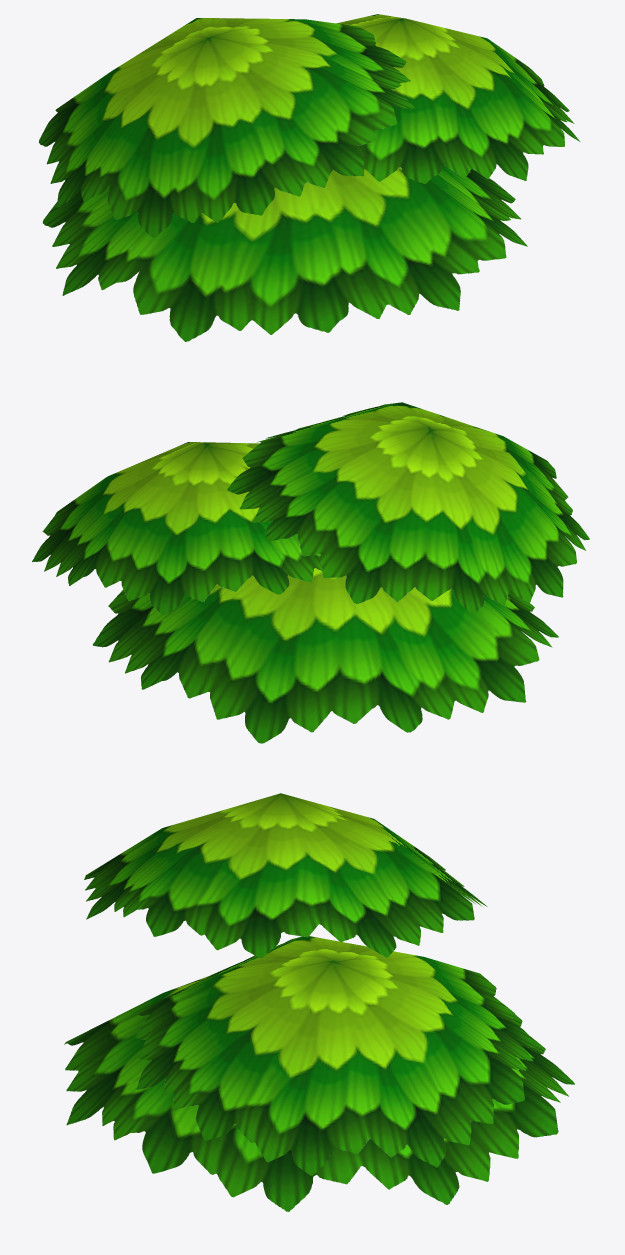
The model's file is Bush_06a.FBX.
3 views of the same model, one above another, from view 1: azimuth 30°, elevation 25°; view 2: azimuth 150°, elevation 25°; view 3: azimuth 270°, elevation 25° (orthographic). The views are drawn at different scales.
Parts seen in each view (by area): view 1: Bush_06a; view 2: Bush_06a; view 3: Bush_06a.
Boxes of the visible parts, box(x1,y1,x2,y2) form: Bush_06a: box(39, 14, 580, 341); Bush_06a: box(32, 402, 589, 743); Bush_06a: box(64, 793, 574, 1211).
Size of the model in its own units: 1.37 by 0.5783 by 1.16.
